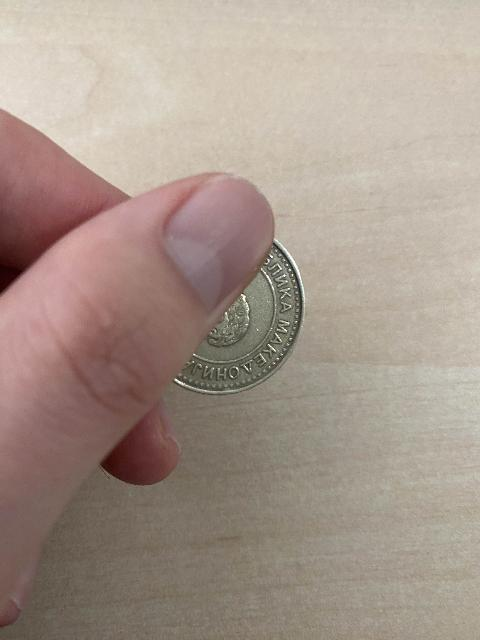50_coin: (184, 248, 298, 391)
